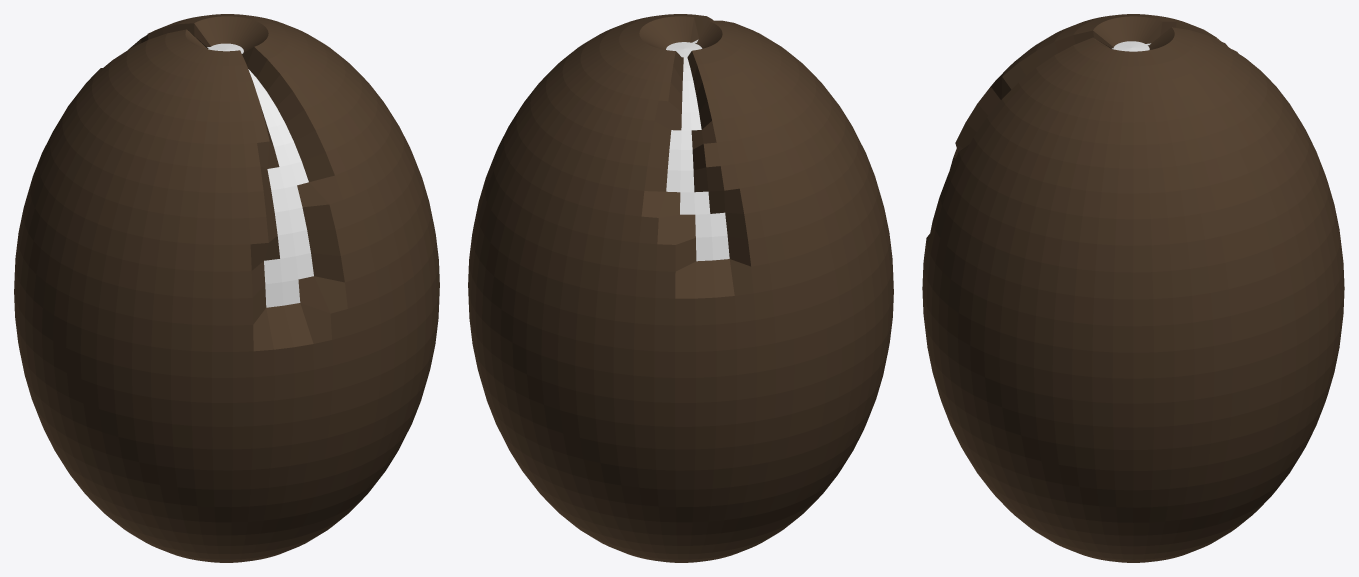
The model's file is seed.fbx.
3 renders of one model, left to right at view 1: azimuth 30°, elevation 25°; view 2: azimuth 150°, elevation 25°; view 3: azimuth 270°, elevation 25°, orthographic.
Visible parts, largest first — view 1: seed; view 2: seed; view 3: seed.
Part boxes in pixels (x1=…): seed: x1=14, y1=14, x2=439, y2=562; seed: x1=468, y1=14, x2=893, y2=562; seed: x1=922, y1=14, x2=1344, y2=562.
Size of the model in its own units: 3127 by 4154 by 3092.
